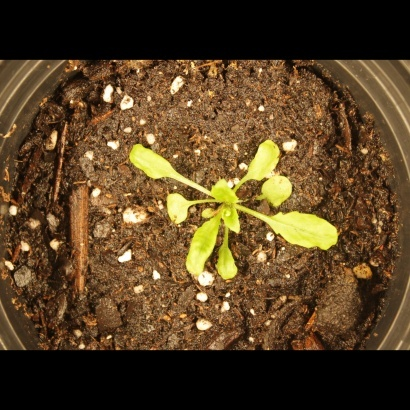leaf: (260, 209, 344, 254), (121, 141, 190, 186), (181, 212, 220, 280), (246, 130, 282, 184), (259, 174, 301, 209), (157, 189, 195, 226), (215, 242, 240, 287), (208, 173, 240, 203), (218, 204, 244, 234)
